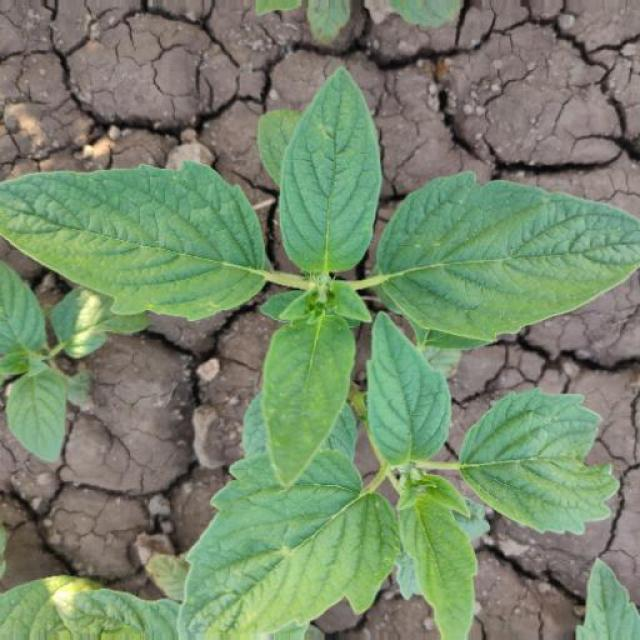crop: (1, 64, 640, 478), (184, 320, 624, 640)
